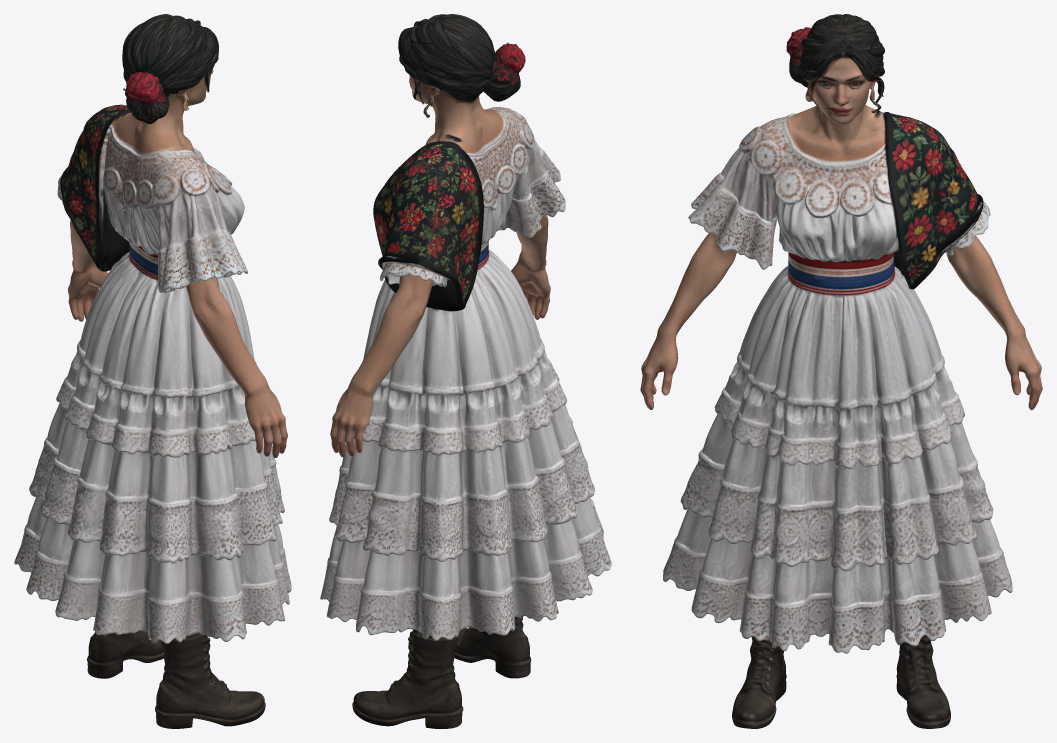
Rendered from player-paraguay-body-cmv5w8g7.glb.
3 views of the same model, side by side, from view 1: azimuth 30°, elevation 25°; view 2: azimuth 150°, elevation 25°; view 3: azimuth 270°, elevation 25° (orthographic). The views are drawn at different scales.
Parts seen in each view (by area): view 1: tripo_node_fc6662e1-7681-417c-84f6-d9bc027e1197; view 2: tripo_node_fc6662e1-7681-417c-84f6-d9bc027e1197; view 3: tripo_node_fc6662e1-7681-417c-84f6-d9bc027e1197.
Boxes of the visible parts, left/top/right/bottom form: tripo_node_fc6662e1-7681-417c-84f6-d9bc027e1197: left=14, top=14, right=291, bottom=728; tripo_node_fc6662e1-7681-417c-84f6-d9bc027e1197: left=320, top=14, right=611, bottom=728; tripo_node_fc6662e1-7681-417c-84f6-d9bc027e1197: left=640, top=14, right=1042, bottom=728.
Size of the model in its own units: 0.3488 by 1 by 0.5278.
Materials: 1 (1 with a texture image).
